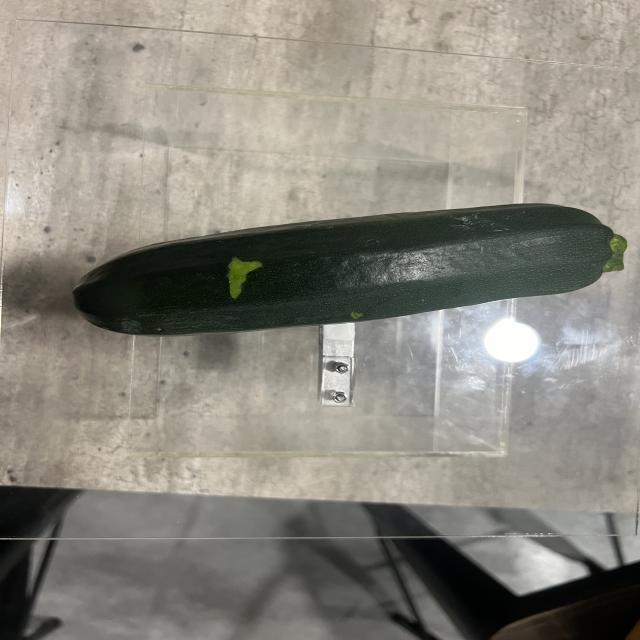zucchini: (73, 204, 625, 337)
